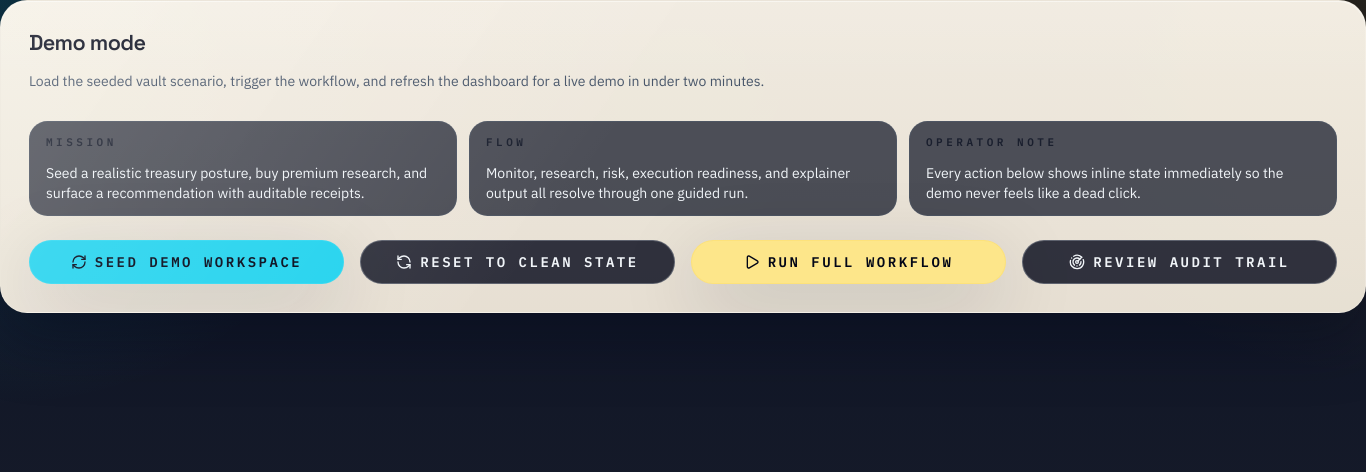
Scenario: DemoActions › prevents duplicate workflow submissions while a run is in flight
Click the button "Run full workflow" at coordinates (848, 262), box [691,240,1006,284]
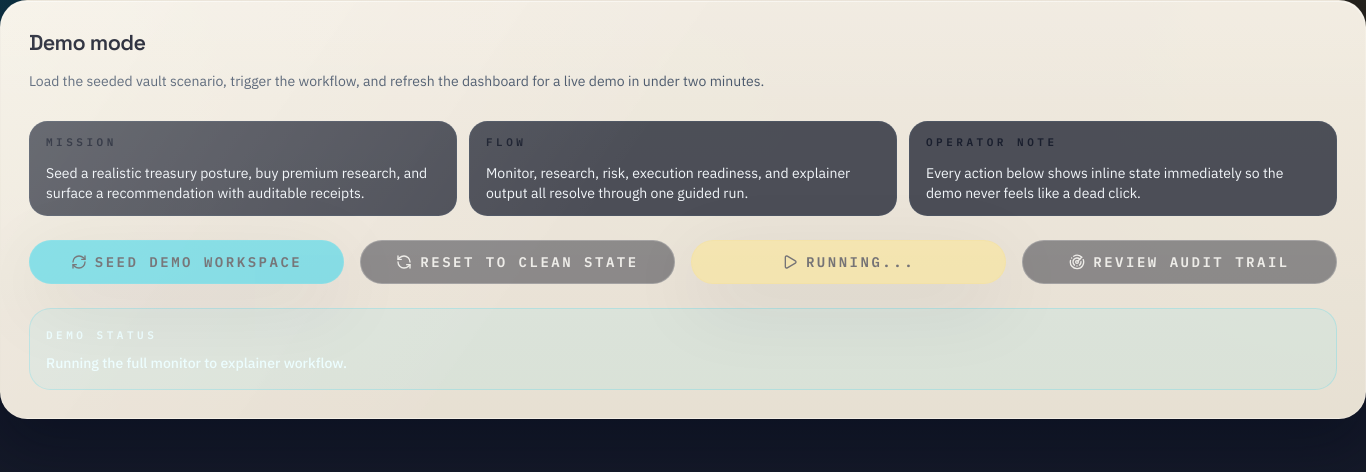
Click the button named "Run full workflow" at coordinates (848, 262), box [691,240,1006,284]
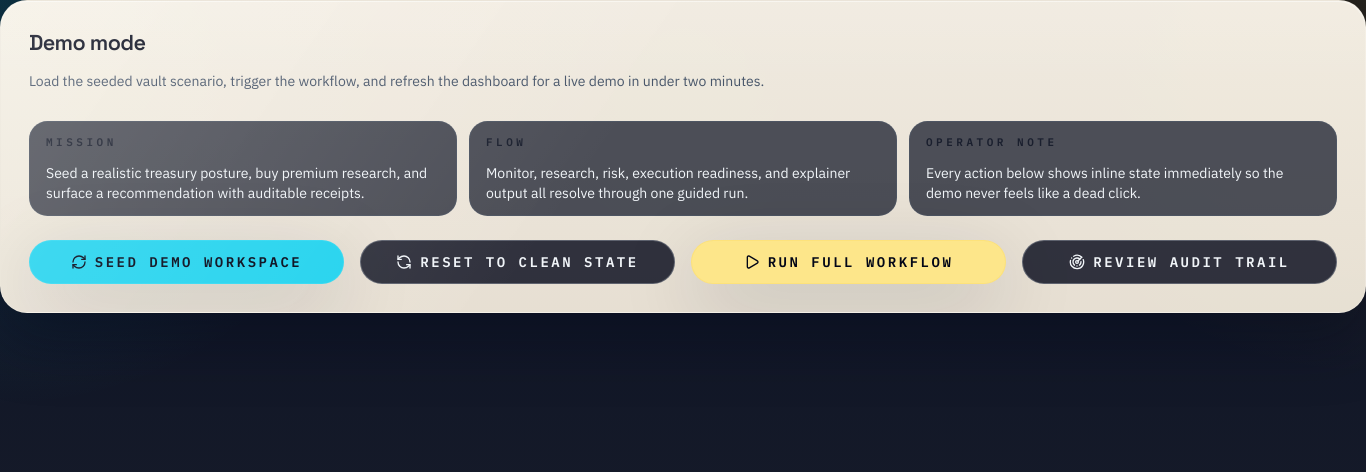
Expected: the button "Run full workflow" is enabled, [691,240,1006,284]
